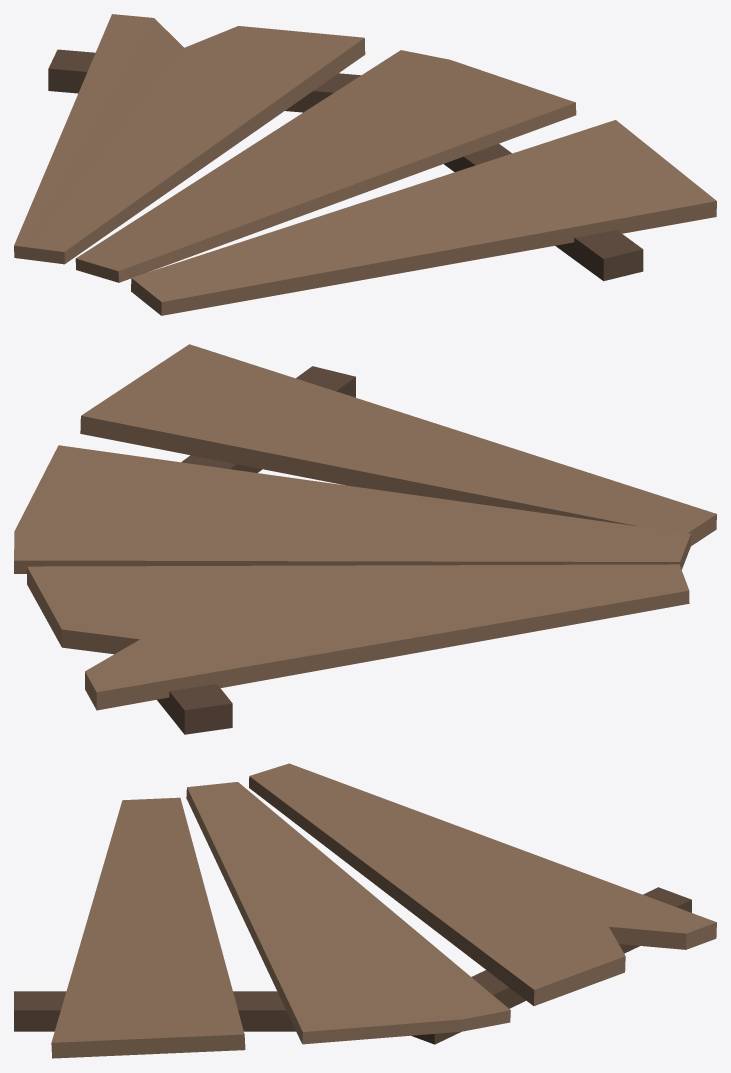
File: Platform30D.fbx
3 renders of one model, top to bottom at view 1: azimuth 30°, elevation 25°; view 2: azimuth 150°, elevation 25°; view 3: azimuth 270°, elevation 25°, orthographic. The views are drawn at different scales.
Parts seen in each view (by area): view 1: Cube.005; view 2: Cube.005; view 3: Cube.005.
Part boxes in pixels (box(x1,y1,x2,y2)): Cube.005: box(14, 14, 716, 315); Cube.005: box(14, 344, 716, 734); Cube.005: box(14, 763, 716, 1058).
Size of the model in its own units: 101 by 7.02 by 110.
1 material, 1 textured.
